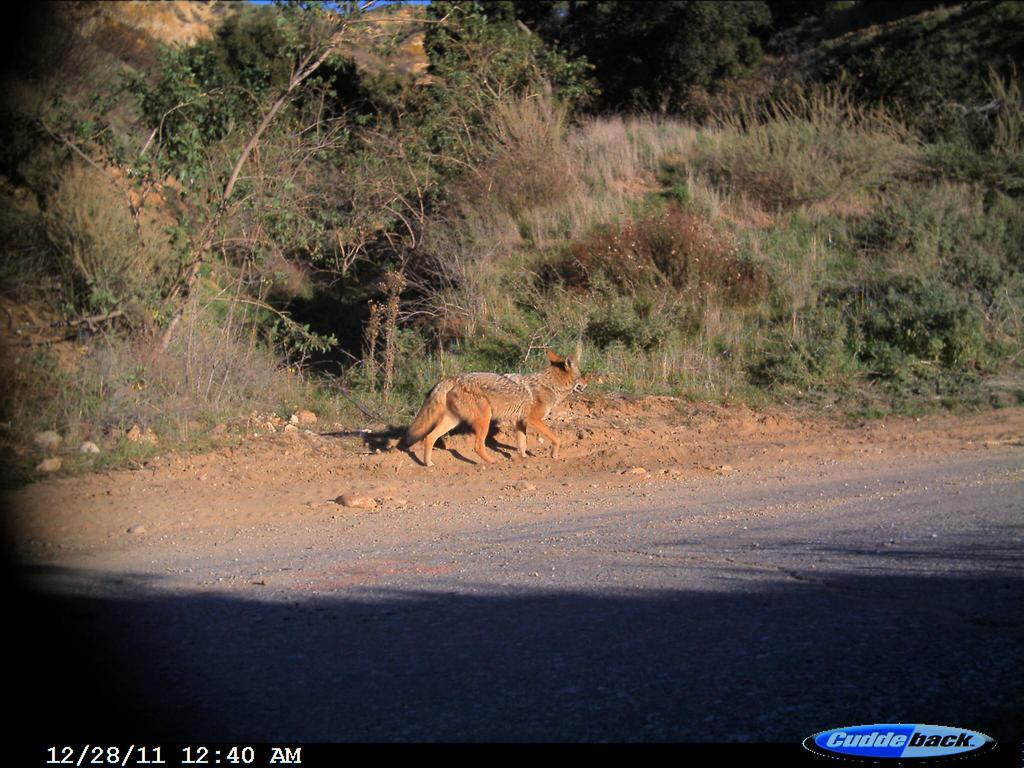coyote: (394, 350, 591, 471)
